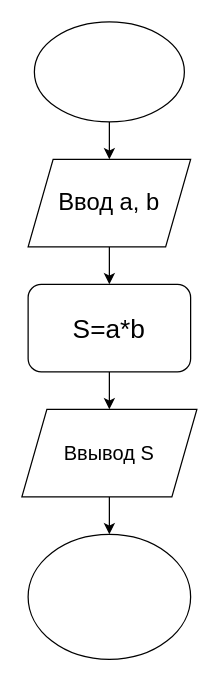
Image size: 219x681. Some labels were removed from this diagram. Each missing label, with the centre of its shape:
"End" goes at pixel 109 596.
"Start" goes at pixel 108 71.
